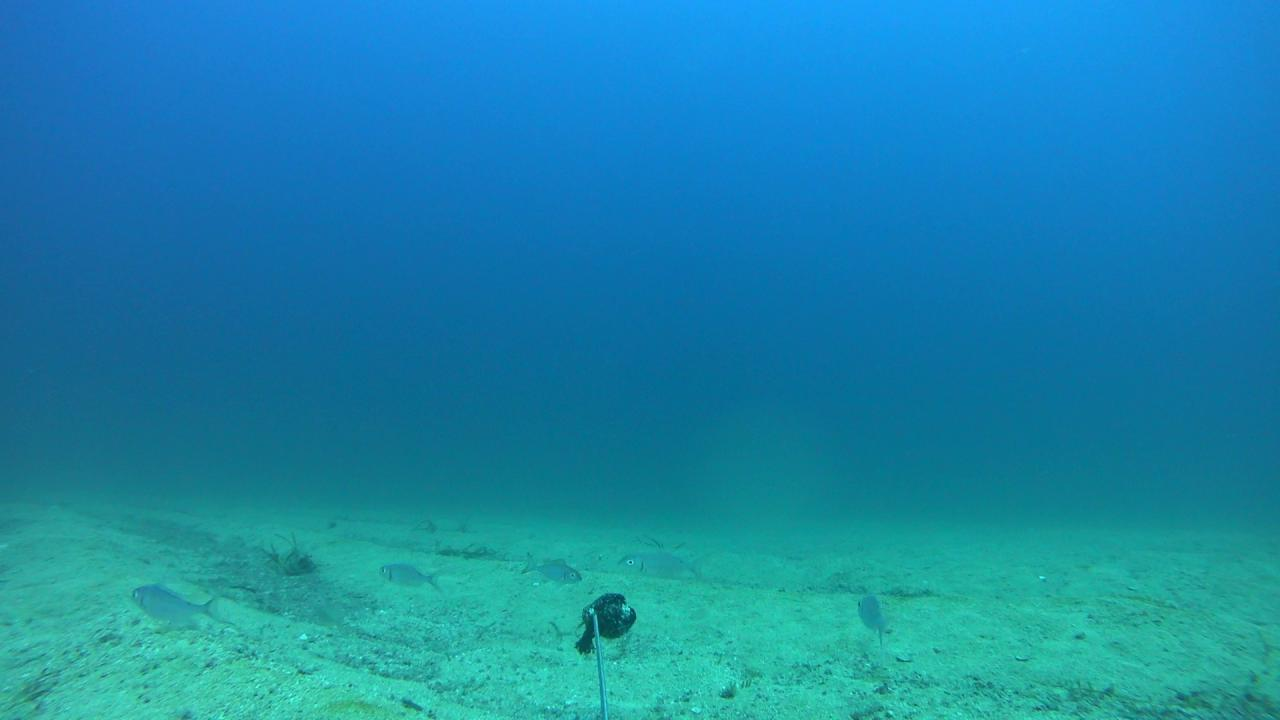pagellus: (129, 583, 215, 624), (614, 550, 711, 580), (522, 553, 581, 583), (853, 590, 887, 642), (378, 563, 441, 590)
